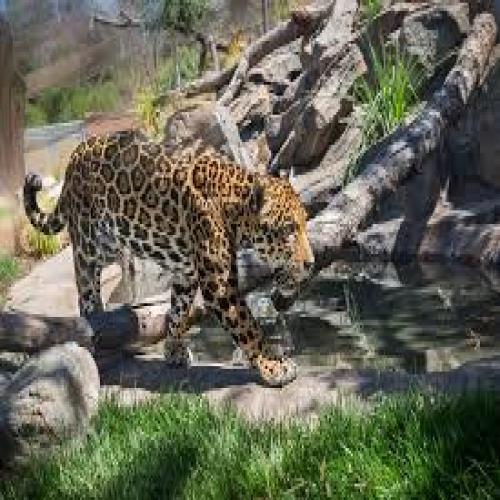jaguar_not-endangered: (27, 130, 317, 392)
